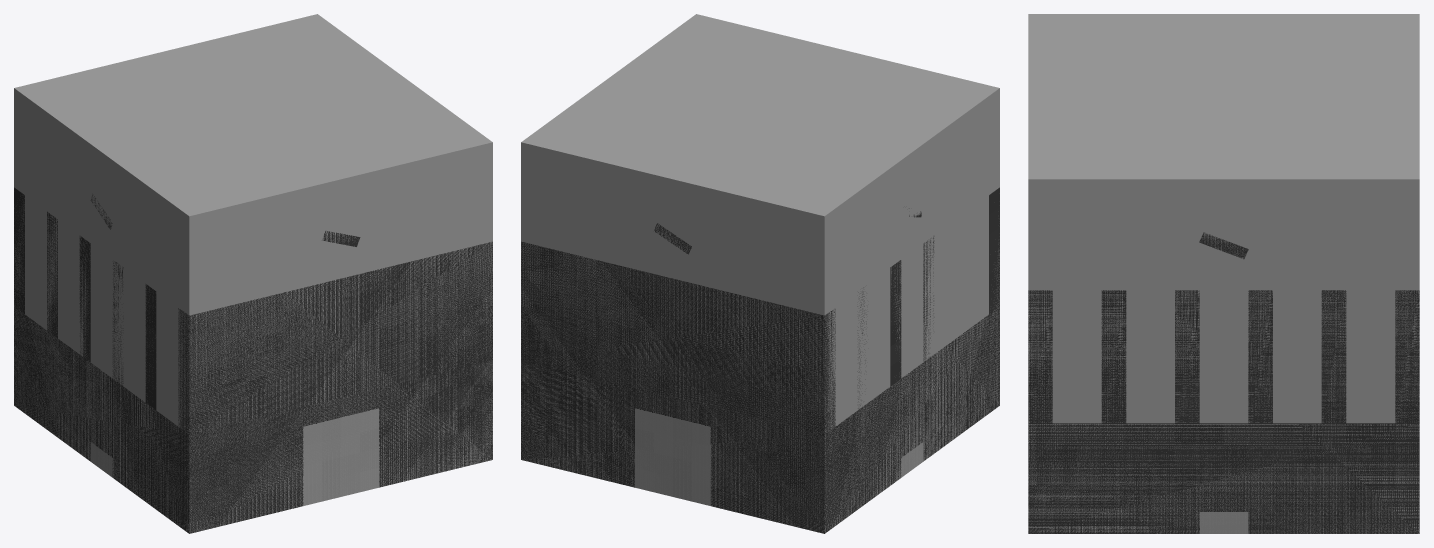
File: 200vactivethermaldissipatora.obj
3 renders of one model, left to right at view 1: azimuth 30°, elevation 25°; view 2: azimuth 150°, elevation 25°; view 3: azimuth 270°, elevation 25°, orthographic. The views are drawn at different scales.
Parts seen in each view (by area): view 1: Minecraft_Block_Cube, main; view 2: Minecraft_Block_Cube, main; view 3: Minecraft_Block_Cube, main, rot.
Boxes of the visible parts, box(x1,y1,x2,y2) form: Minecraft_Block_Cube: box(14, 14, 492, 533); main: box(14, 187, 492, 533); Minecraft_Block_Cube: box(521, 14, 999, 532); main: box(521, 187, 999, 533); Minecraft_Block_Cube: box(1028, 14, 1419, 533); main: box(1028, 290, 1419, 533); rot: box(1199, 232, 1248, 259).
Bounding box in the file's own units: 1 × 1 × 1.
Materials: 2 (1 with a texture image).
